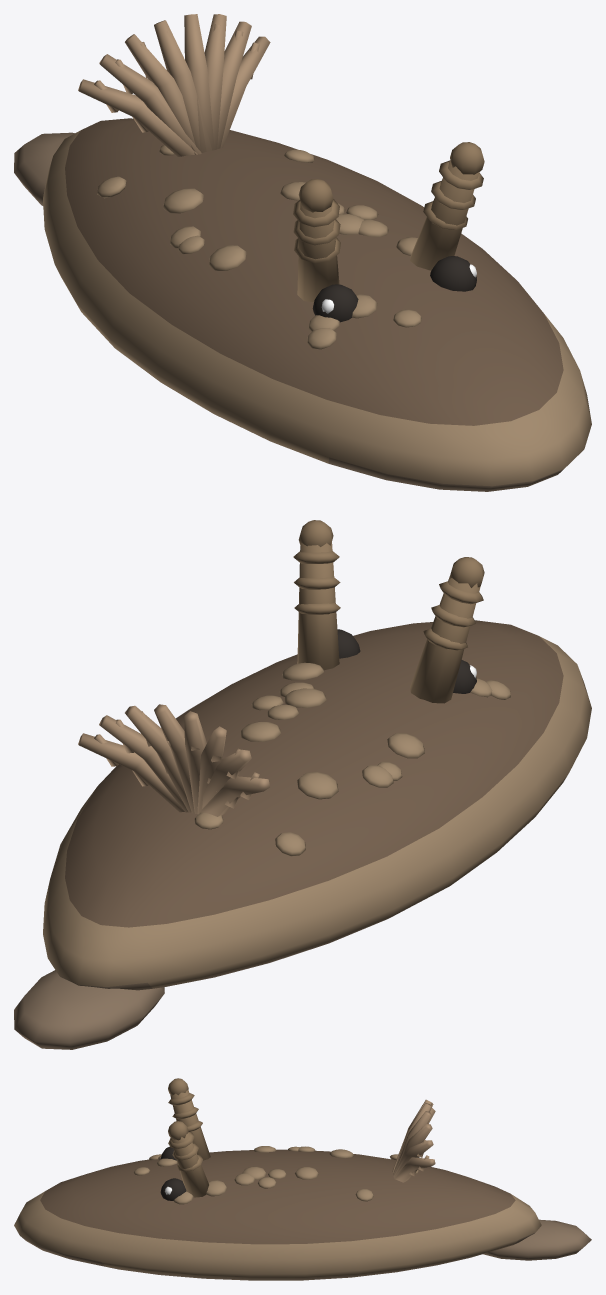
The model's file is sea-sea-hare.glb.
The picture shows the model from 3 angles, top to bottom: view 1: azimuth 30°, elevation 25°; view 2: azimuth 150°, elevation 25°; view 3: azimuth 270°, elevation 25°; orthographic projection. The views are drawn at different scales.
Visible parts, largest first — view 1: slug; view 2: slug; view 3: slug.
Part boxes in pixels (<box>): slug: <box>14,14,591,491</box>; slug: <box>14,520,591,1049</box>; slug: <box>14,1078,591,1280</box>.
Size of the model in its own units: 0.1488 by 0.1093 by 0.3723.
